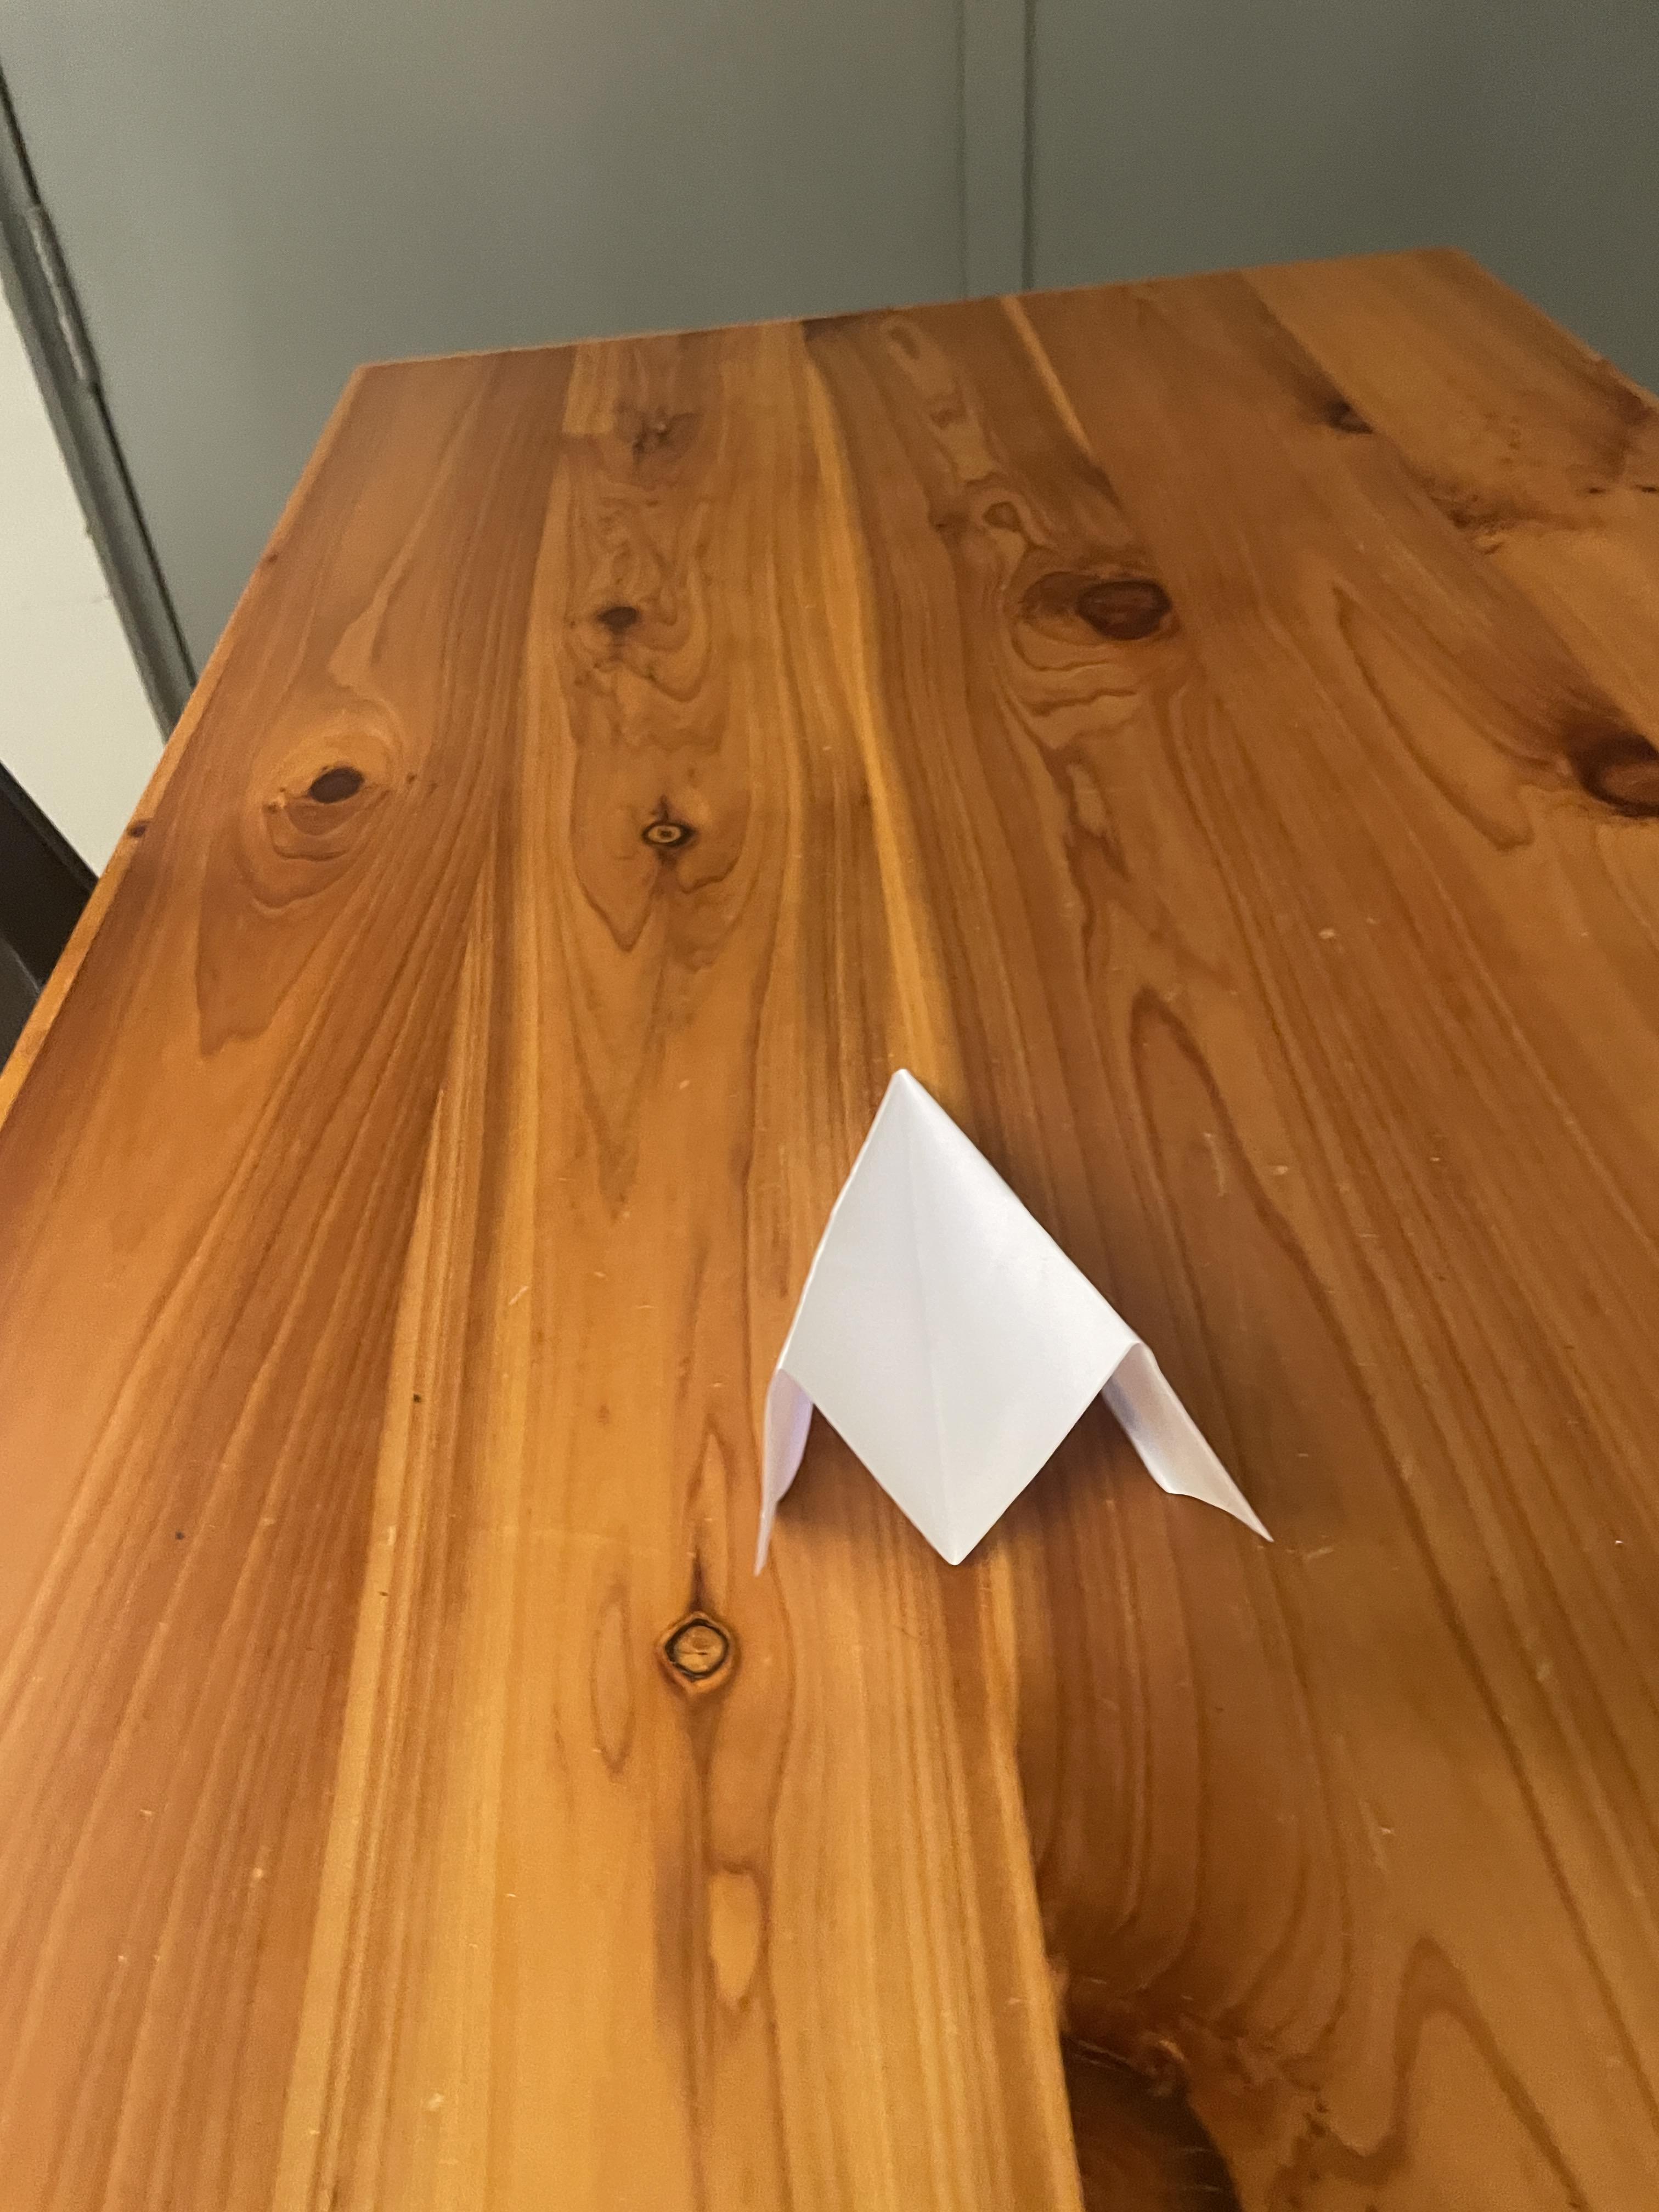shape_3: (647, 951, 1284, 1752)
